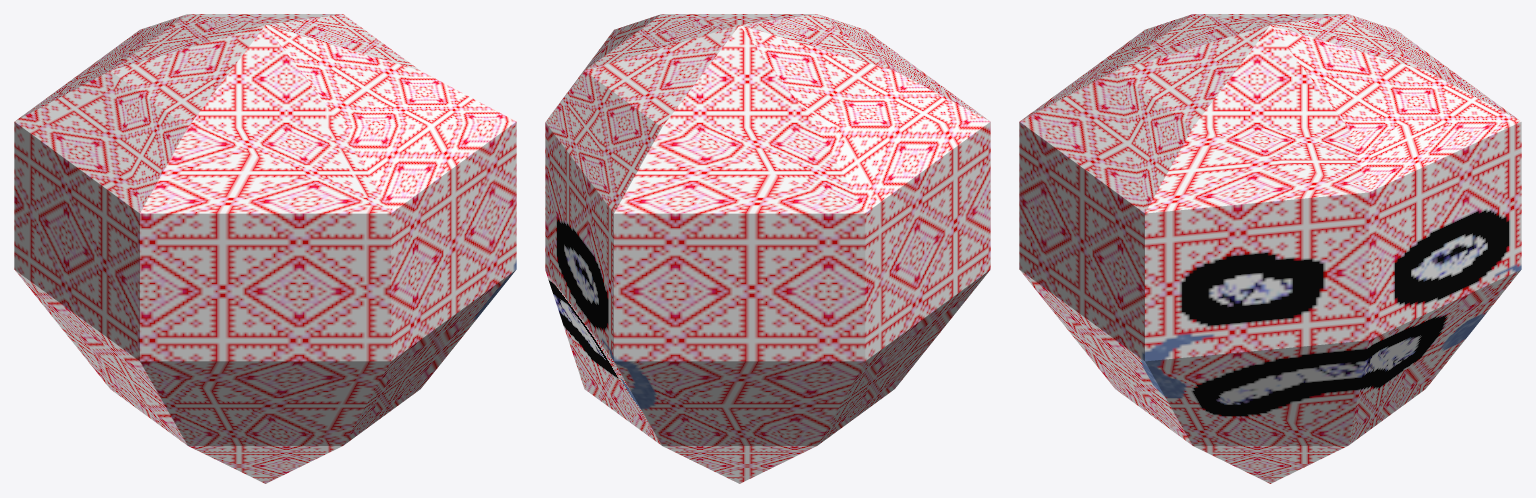
Rendered from Abberation.obj.
3 views of the same model, side by side, from view 1: azimuth 30°, elevation 25°; view 2: azimuth 150°, elevation 25°; view 3: azimuth 270°, elevation 25° (orthographic).
Parts seen in each view (by area): view 1: Cone; view 2: Cone; view 3: Cone.
Boxes of the visible parts, bbox=[...] form: Cone: bbox=[14, 14, 516, 483]; Cone: bbox=[545, 14, 990, 483]; Cone: bbox=[1019, 14, 1521, 483].
Size of the model in its own units: 1.65 by 1.92 by 1.9.
